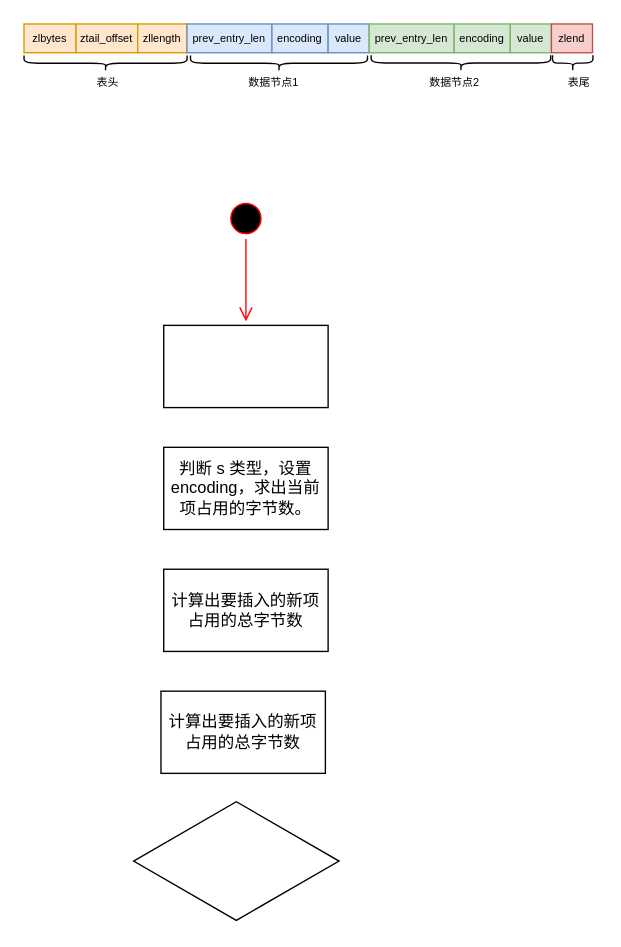
The diagram is 621 pixels wide and 947 high, and some of its shapes have lost their labels. The shapes that lost their labels are listed below. From the top down, each one's centre as x and y in pixels, then its label:
pixel 245 366: 计算插入位置前一项的长度
pixel 235 860: 插入位置是否为表头
